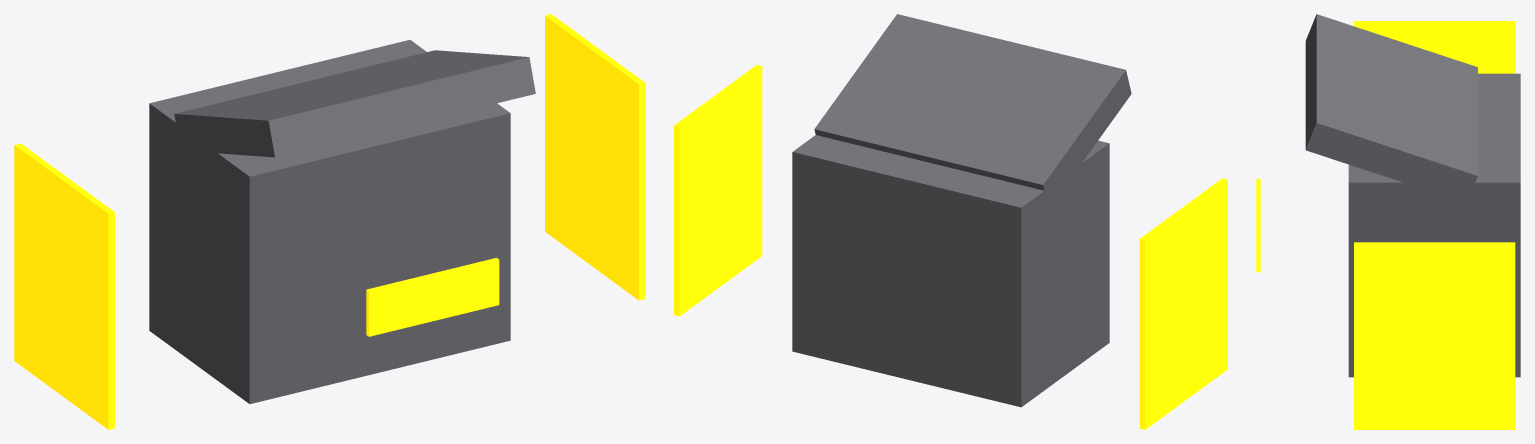
File: ammo_box.glb
The picture shows the model from 3 angles, left to right: view 1: azimuth 30°, elevation 25°; view 2: azimuth 150°, elevation 25°; view 3: azimuth 270°, elevation 25°; orthographic projection. The views are drawn at different scales.
Parts seen in each view (by area): view 1: AmmoBox, GlowStrip_-1, GlowStrip_1, Lid, Label; view 2: AmmoBox, Lid, GlowStrip_-1, GlowStrip_1; view 3: GlowStrip_1, Lid, AmmoBox, GlowStrip_-1, Label.
Part boxes in pixels (x1=…): AmmoBox: x1=149, y1=40, x2=510, y2=403; GlowStrip_-1: x1=14, y1=143, x2=114, y2=429; GlowStrip_1: x1=545, y1=14, x2=645, y2=300; Lid: x1=174, y1=50, x2=535, y2=157; Label: x1=366, y1=258, x2=499, y2=336; AmmoBox: x1=792, y1=135, x2=1109, y2=407; Lid: x1=814, y1=14, x2=1131, y2=208; GlowStrip_-1: x1=1139, y1=178, x2=1227, y2=429; GlowStrip_1: x1=674, y1=65, x2=762, y2=316; GlowStrip_1: x1=1354, y1=242, x2=1515, y2=429; Lid: x1=1305, y1=14, x2=1477, y2=182; AmmoBox: x1=1348, y1=73, x2=1520, y2=377; GlowStrip_-1: x1=1354, y1=21, x2=1515, y2=73; Label: x1=1256, y1=179, x2=1260, y2=272.
Size of the model in its own units: 0.247 by 0.1307 by 0.123.
